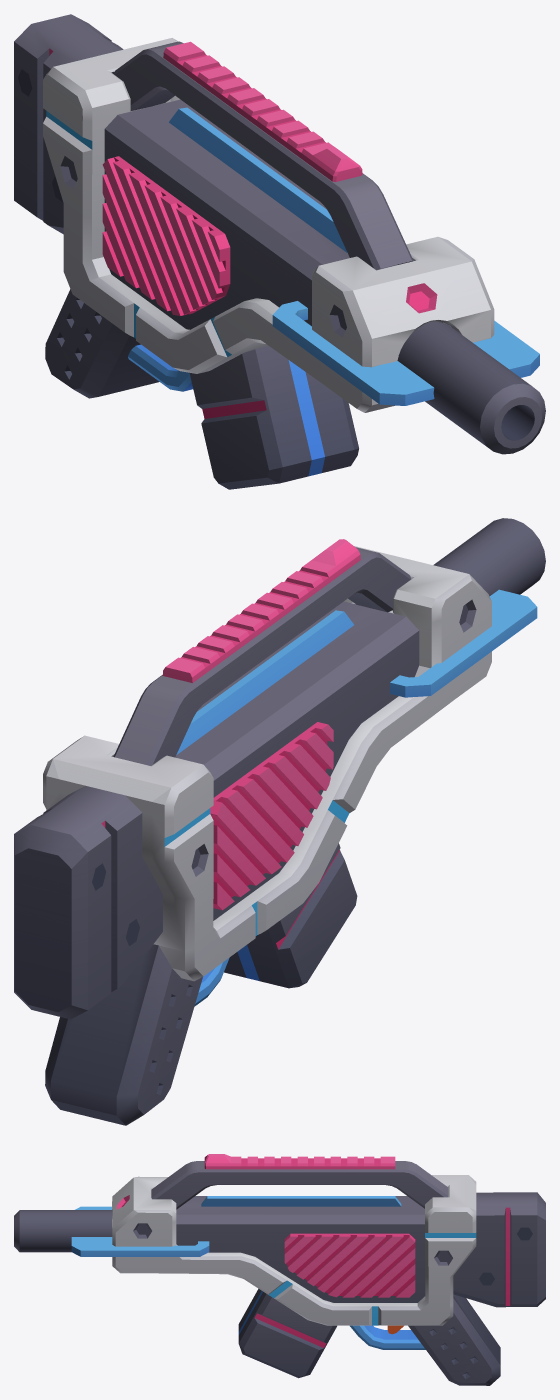
The model's file is Rifle E.fbx.
The picture shows the model from 3 angles, top to bottom: view 1: azimuth 30°, elevation 25°; view 2: azimuth 150°, elevation 25°; view 3: azimuth 270°, elevation 25°; orthographic projection. The views are drawn at different scales.
Visible parts, largest first — view 1: Rifle E, Rifle E.001; view 2: Rifle E, Rifle E.001; view 3: Rifle E, Rifle E.001.
Boxes of the visible parts, box(x1,y1,x2,y2) form: Rifle E: box(14, 14, 545, 454); Rifle E.001: box(189, 346, 358, 489); Rifle E: box(14, 518, 545, 1125); Rifle E.001: box(224, 843, 357, 988); Rifle E: box(14, 1154, 545, 1385); Rifle E.001: box(238, 1288, 336, 1378).
Size of the model in its own units: 0.1891 by 0.4465 by 0.9713.
